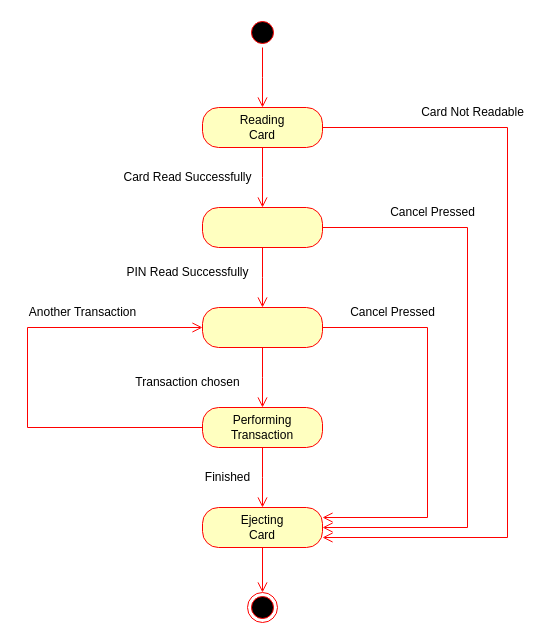
Some shapes in this 554 by 640 pixel diagram are drawn without their labels. Here are the shapes that lost their labels. From the top down, the box of each, then its label:
(202, 206, 322, 248): Reading PIN
(202, 306, 322, 348): Choosing Transaction
